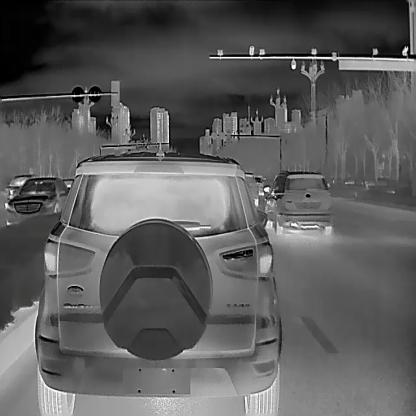car: (34, 152, 283, 415), (261, 169, 332, 236), (4, 176, 69, 224), (2, 173, 36, 196), (242, 170, 257, 206), (253, 175, 263, 194)
